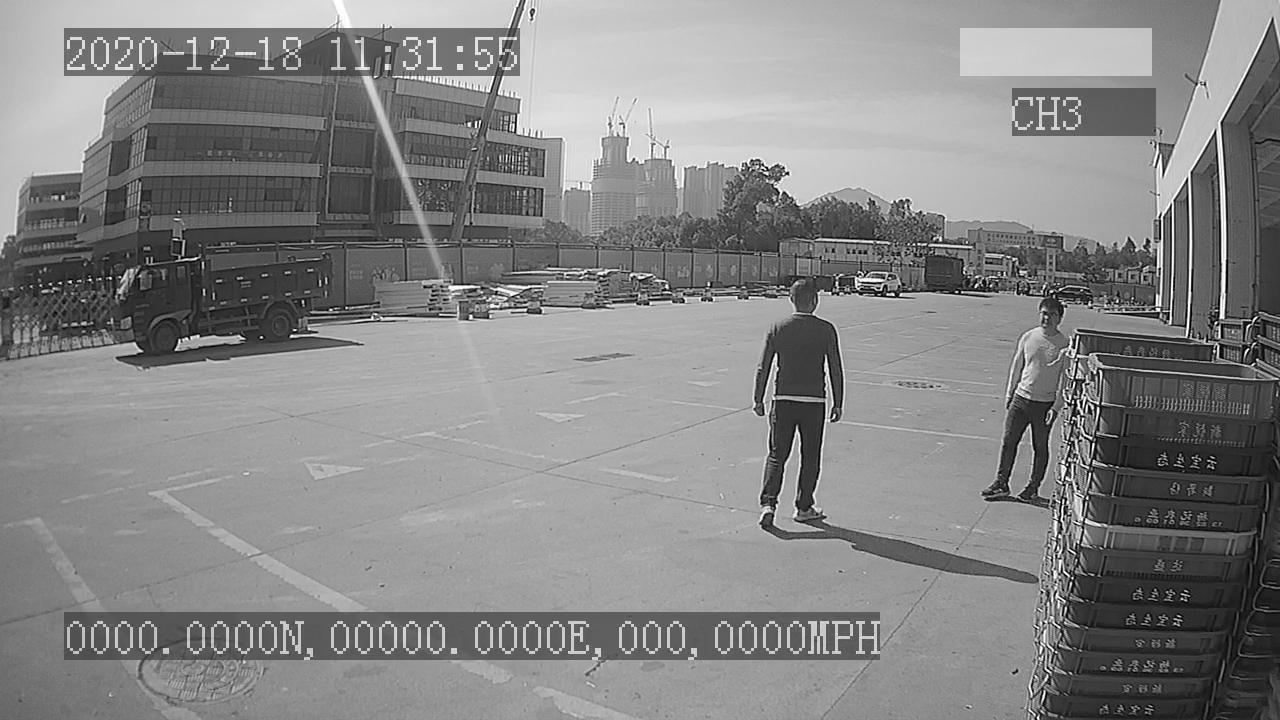person: (750, 276, 846, 531)
